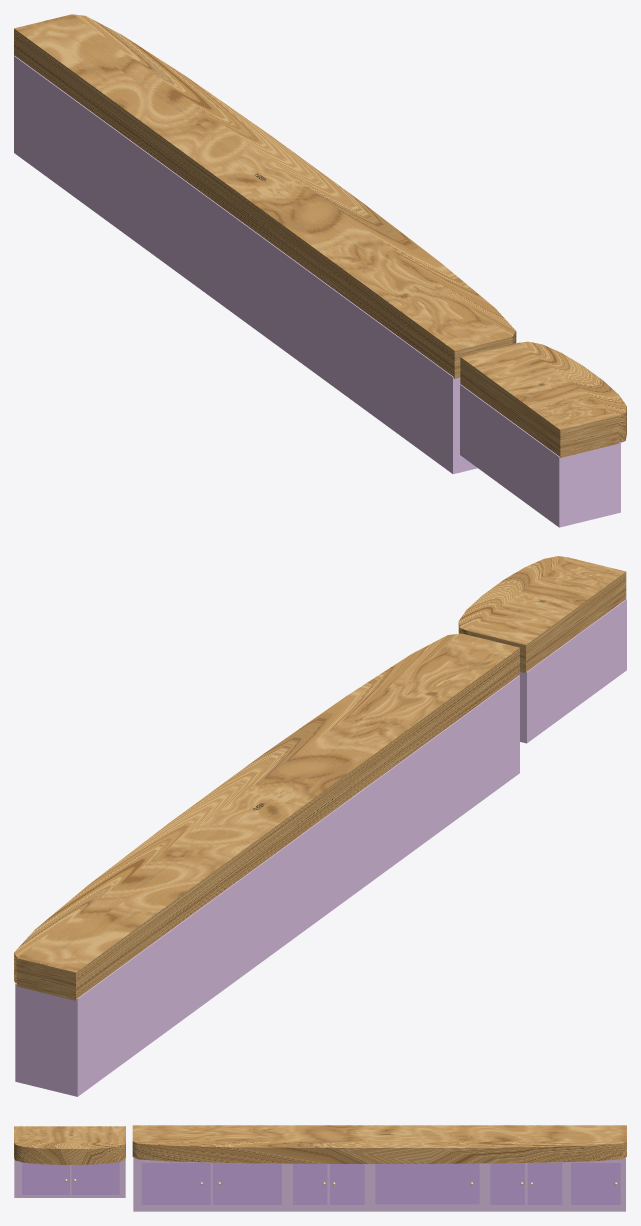
The model's file is estanteSuperior.obj.
The picture shows the model from 3 angles, top to bottom: view 1: azimuth 30°, elevation 25°; view 2: azimuth 150°, elevation 25°; view 3: azimuth 270°, elevation 25°; orthographic projection. The views are drawn at different scales.
Visible parts, largest first — view 1: pasted__pasted__pasted__pasted__pasted__pasted__pSphere1 polySur; view 2: pasted__pasted__pasted__pasted__pasted__pasted__pSphere1 polySur; view 3: pasted__pasted__pasted__pasted__pasted__pasted__pSphere1 polySur, polySurface322 pasted__pasted__pasted__pasted__pasted__pasted__p.
Boxes of the visible parts, <box> form: pasted__pasted__pasted__pasted__pasted__pasted__pSphere1 polySur: <box>14,14,626,527</box>; pasted__pasted__pasted__pasted__pasted__pasted__pSphere1 polySur: <box>14,556,626,1096</box>; pasted__pasted__pasted__pasted__pasted__pasted__pSphere1 polySur: <box>14,1125,626,1211</box>; polySurface322 pasted__pasted__pasted__pasted__pasted__pasted__p: <box>71,1162,119,1194</box>.
Bounding box in the file's own units: 0.1122 × 0.1584 × 1.27.
26 materials, 24 textured.
